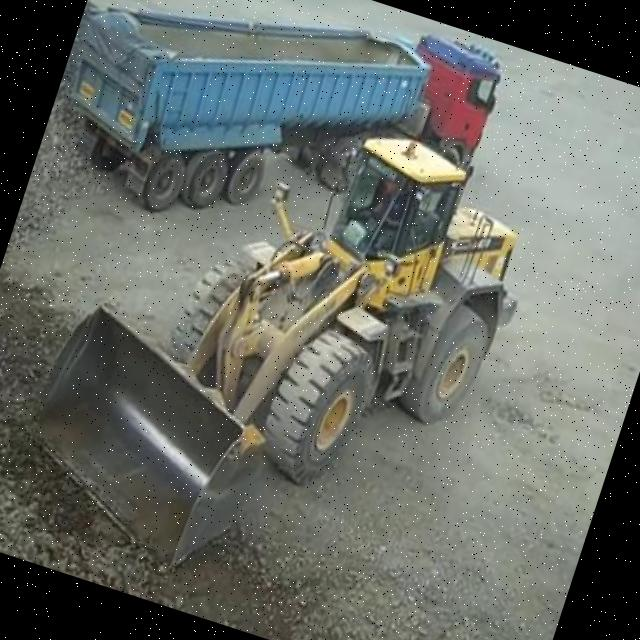Dump Truck: (43, 0, 516, 292)
Loader: (0, 49, 556, 640)
